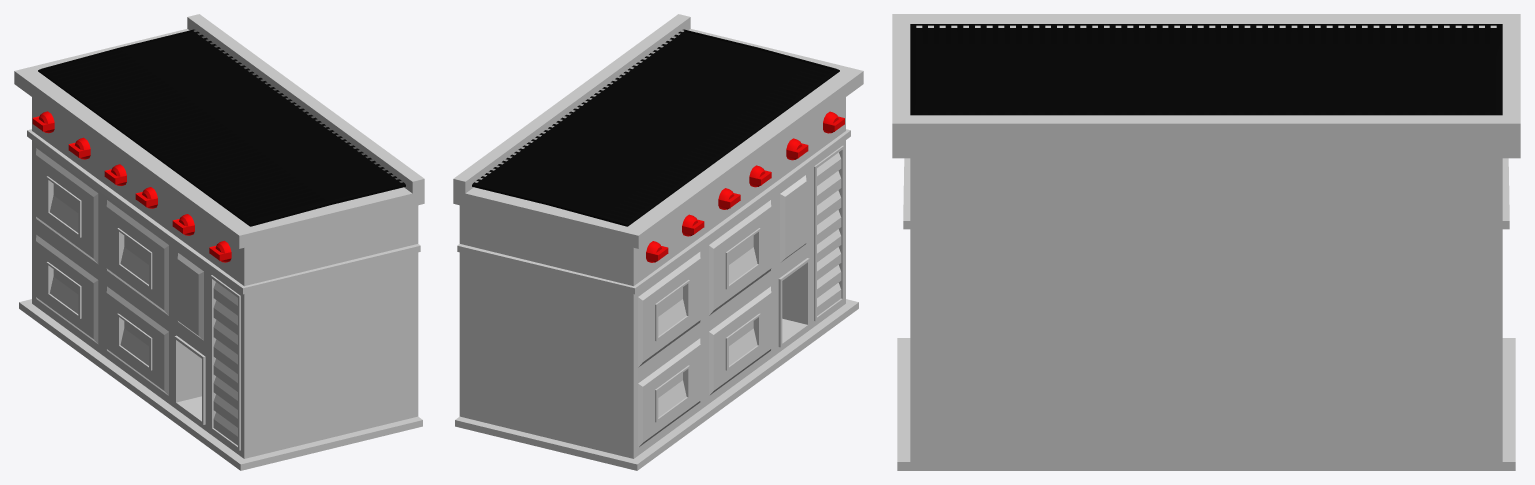
File: Grille.FBX
3 views of the same model, side by side, from view 1: azimuth 30°, elevation 25°; view 2: azimuth 150°, elevation 25°; view 3: azimuth 270°, elevation 25° (orthographic). The views are drawn at different scales.
Visible parts, largest first — view 1: Grille, Box001; view 2: Grille, Box001; view 3: Grille, Box001.
Part boxes in pixels (x1,y1,x2,y2): Grille: [14, 14, 424, 470]; Box001: [38, 29, 405, 226]; Grille: [453, 14, 863, 470]; Box001: [472, 29, 839, 226]; Grille: [892, 14, 1520, 470]; Box001: [910, 24, 1502, 115].
Bounding box in the file's own units: 32.79 × 41.98 × 68.84.
